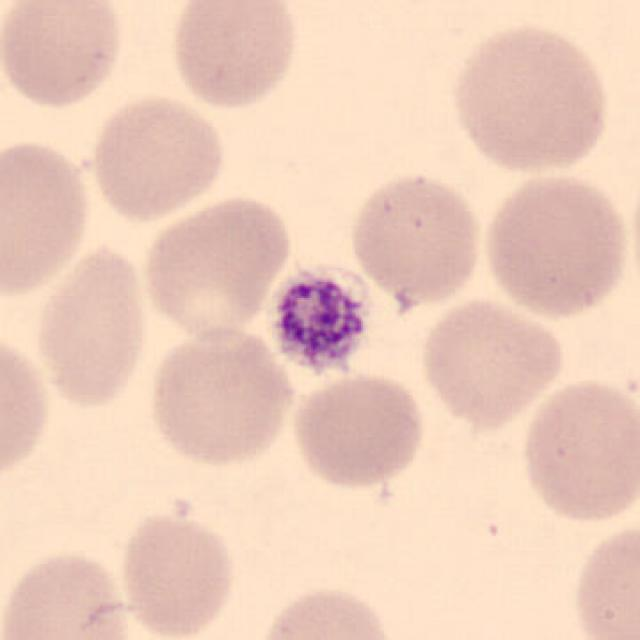Platelets: (265, 264, 377, 384)
RBC: (446, 20, 615, 176), (476, 168, 633, 322), (137, 190, 295, 338), (142, 321, 297, 471), (30, 238, 153, 411), (414, 292, 569, 428), (347, 168, 487, 308), (86, 90, 230, 224), (516, 374, 638, 527), (286, 368, 430, 494), (114, 506, 240, 638), (0, 132, 96, 300), (165, 0, 302, 113), (0, 0, 128, 113), (0, 546, 138, 640), (0, 326, 55, 488), (567, 518, 640, 640), (254, 582, 400, 640), (66, 596, 222, 640)
